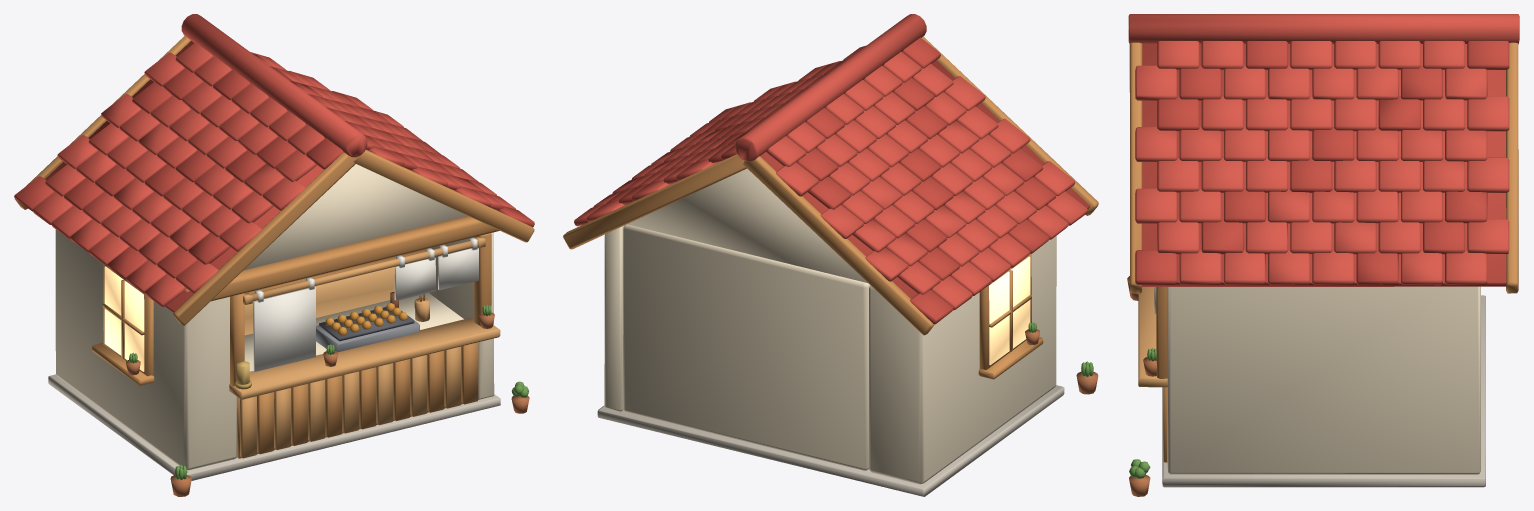
File: takoyaki.glb
The picture shows the model from 3 angles, left to right: view 1: azimuth 30°, elevation 25°; view 2: azimuth 150°, elevation 25°; view 3: azimuth 270°, elevation 25°; orthographic projection. The views are drawn at different scales.
Visible parts, largest first — view 1: takoyaki; view 2: takoyaki; view 3: takoyaki.
Boxes of the visible parts, x1=… form: takoyaki: x1=14, y1=14, x2=534, y2=496; takoyaki: x1=563, y1=14, x2=1098, y2=496; takoyaki: x1=1127, y1=14, x2=1519, y2=496.
Size of the model in its own units: 2.7 by 2.28 by 2.13.
